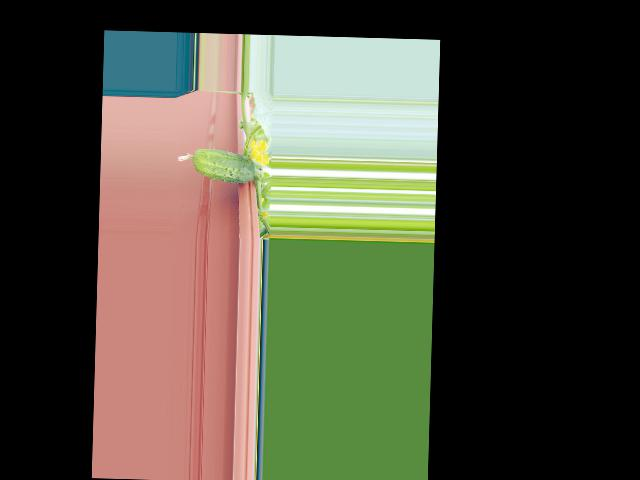cucumber: (176, 147, 256, 183)
